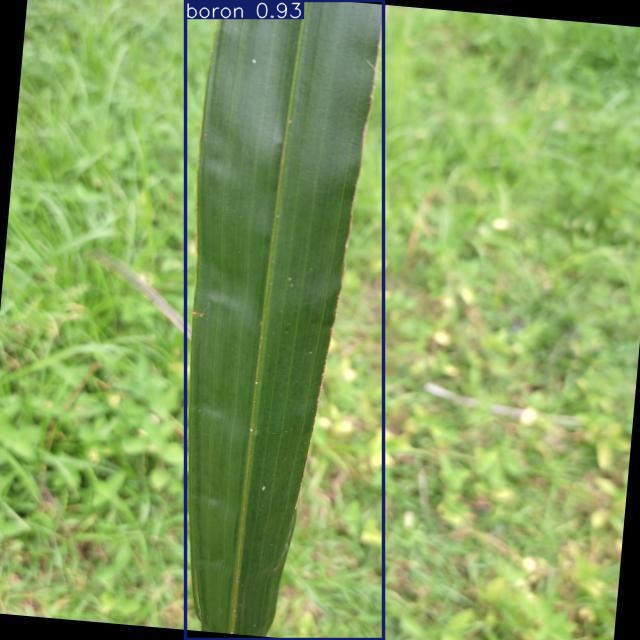nitrogen: (186, 0, 384, 640)
